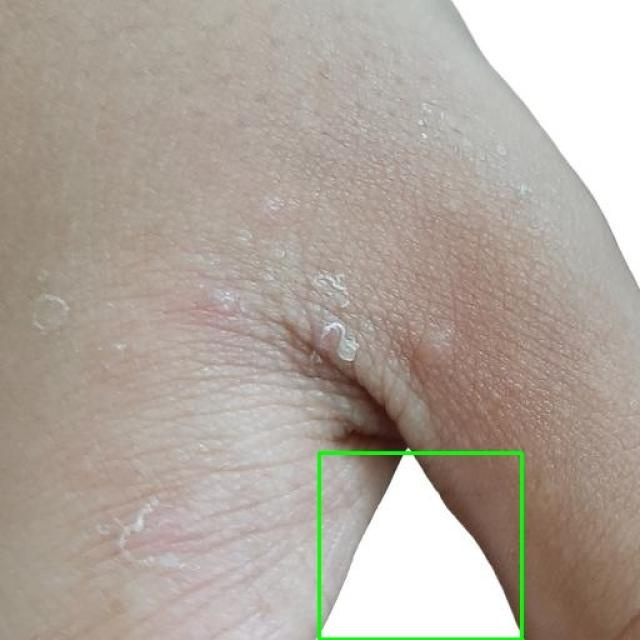Scabies: (319, 452, 521, 639)
